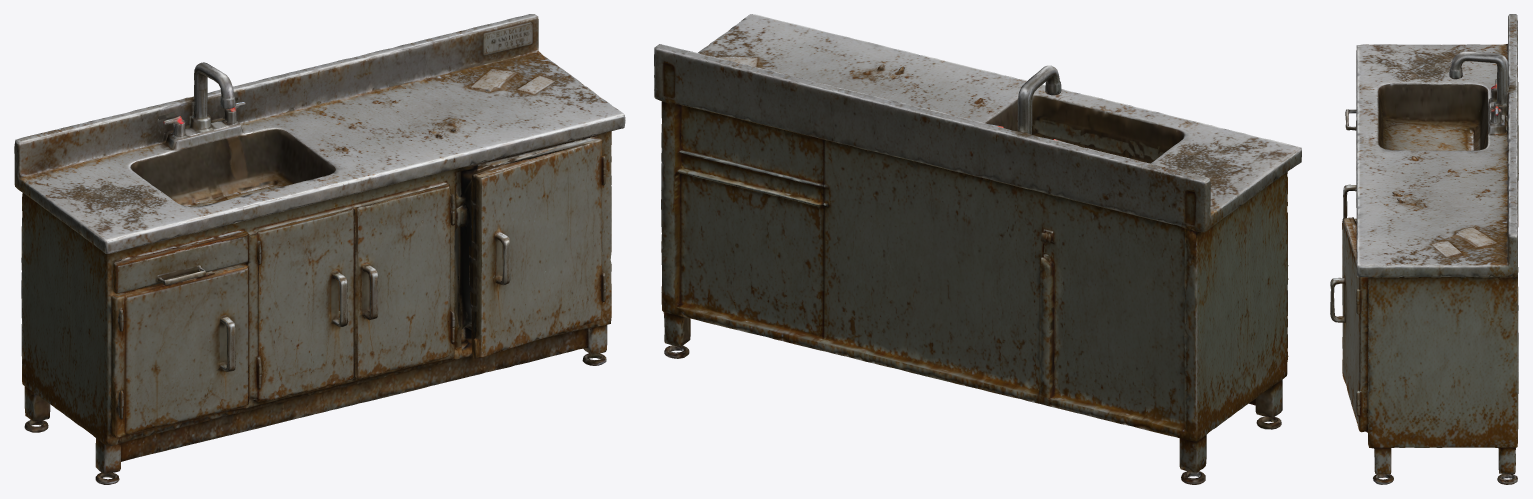
Rendered from KitchenCounter.fbx.
3 views of the same model, side by side, from view 1: azimuth 30°, elevation 25°; view 2: azimuth 150°, elevation 25°; view 3: azimuth 270°, elevation 25° (orthographic). The views are drawn at different scales.
Visible parts, largest first — view 1: texture_mapping; view 2: texture_mapping; view 3: texture_mapping.
Boxes of the visible parts, bbox=[...] form: texture_mapping: bbox=[14, 14, 625, 484]; texture_mapping: bbox=[654, 14, 1301, 484]; texture_mapping: bbox=[1330, 14, 1518, 484].
Size of the model in its own units: 1 by 0.3596 by 0.6113.
Materials: 1 (1 with a texture image).
